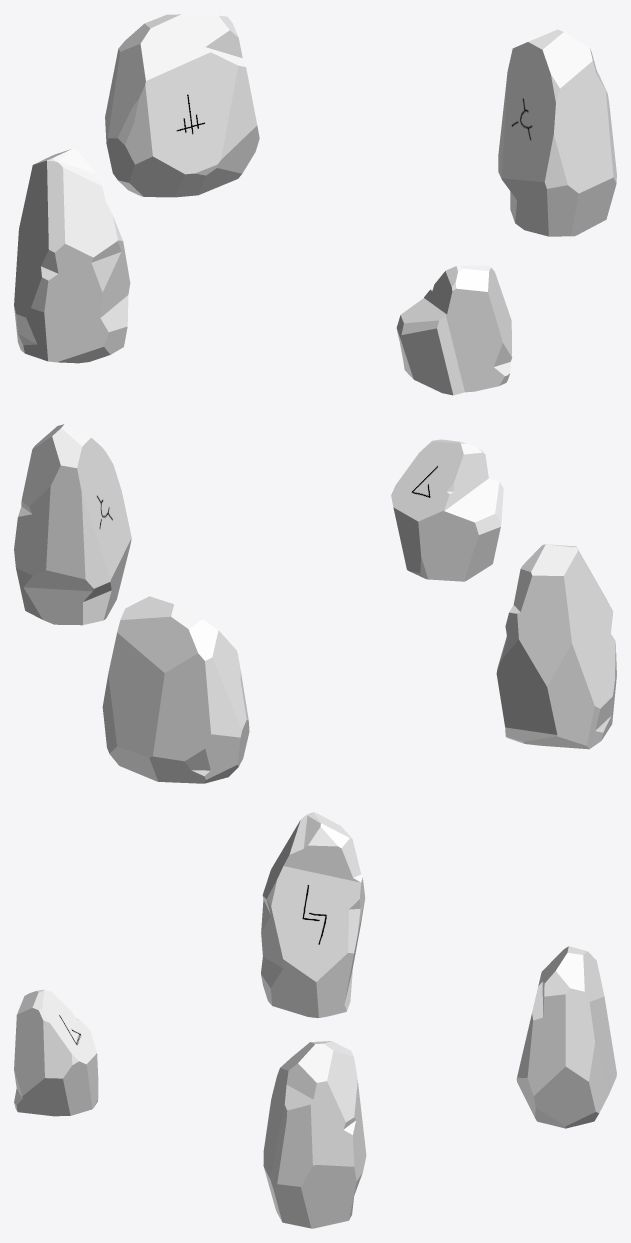
Rendered from rockcircle.fbx.
The picture shows the model from 3 angles, top to bottom: view 1: azimuth 30°, elevation 25°; view 2: azimuth 150°, elevation 25°; view 3: azimuth 270°, elevation 25°; orthographic projection. The views are drawn at different scales.
Visible parts, largest first — view 1: Cube.001, Cube.004, Cube.003, Cube.002; view 2: Cube.001, Cube.004, Cube.003, Cube.002; view 3: Cube.004, Cube.003, Cube.001, Cube.002.
Boxes of the visible parts, x1,y1,x2,y2 form: Cube.001: (105,14,259,197); Cube.004: (14,149,130,363); Cube.003: (498,29,616,236); Cube.002: (396,265,512,395); Cube.001: (102,596,249,783); Cube.004: (496,544,616,749); Cube.003: (14,424,131,625); Cube.002: (391,439,503,581); Cube.004: (261,812,365,1017); Cube.003: (263,1041,366,1228); Cube.001: (516,946,616,1128); Cube.002: (14,989,98,1116).
Size of the model in its own units: 1765 by 564 by 1701.
